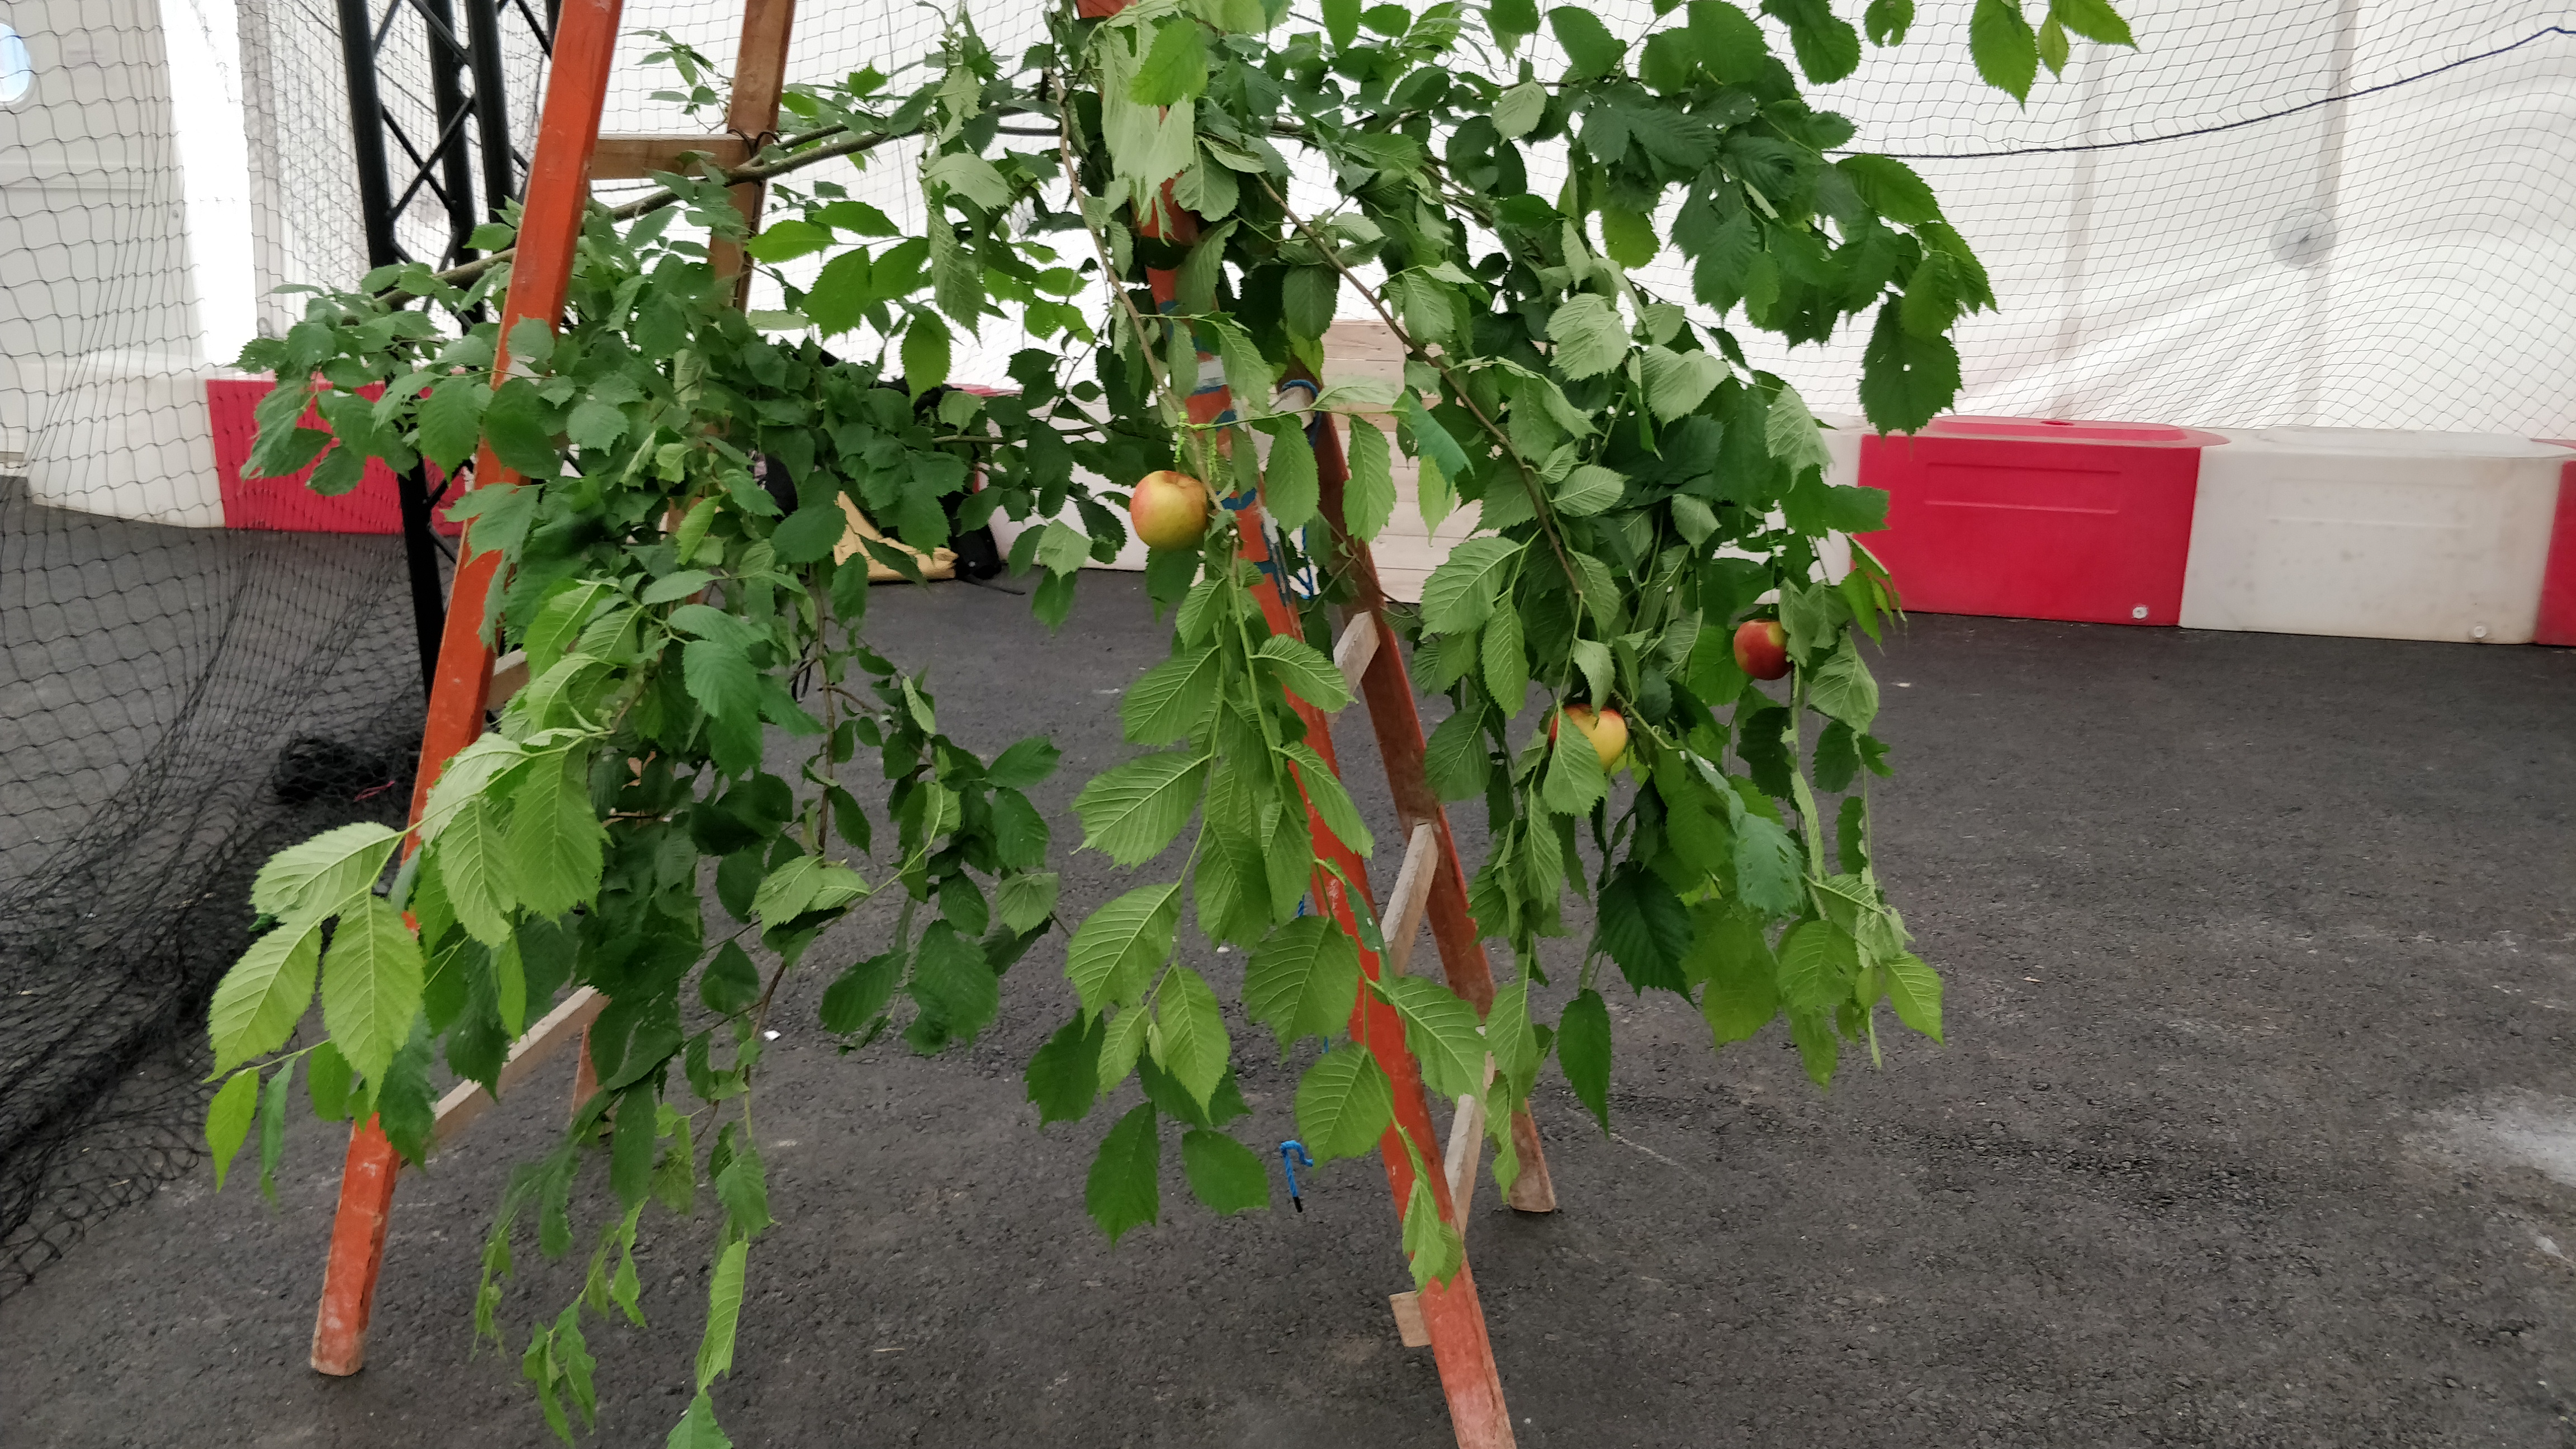apple: (1131, 471, 1208, 550), (1550, 702, 1628, 777), (1734, 617, 1794, 681)
